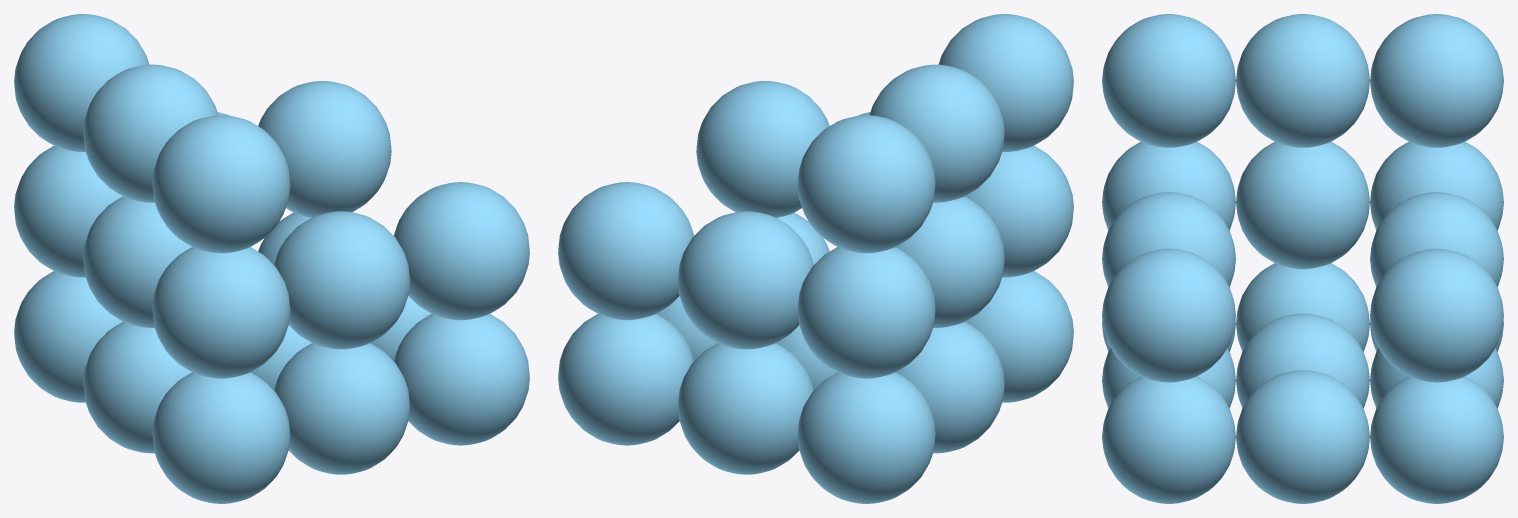
The model's file is Bubble Chair Model.glb.
3 renders of one model, left to right at view 1: azimuth 30°, elevation 25°; view 2: azimuth 150°, elevation 25°; view 3: azimuth 270°, elevation 25°, orthographic. The views are drawn at different scales.
Visible parts, largest first — view 1: Sphere; view 2: Sphere; view 3: Sphere.
Part boxes in pixels (x1,y1,x2,y2): Sphere: (14,14,529,503); Sphere: (558,14,1073,503); Sphere: (1102,14,1503,503).
Size of the model in its own units: 3 by 3 by 3.
